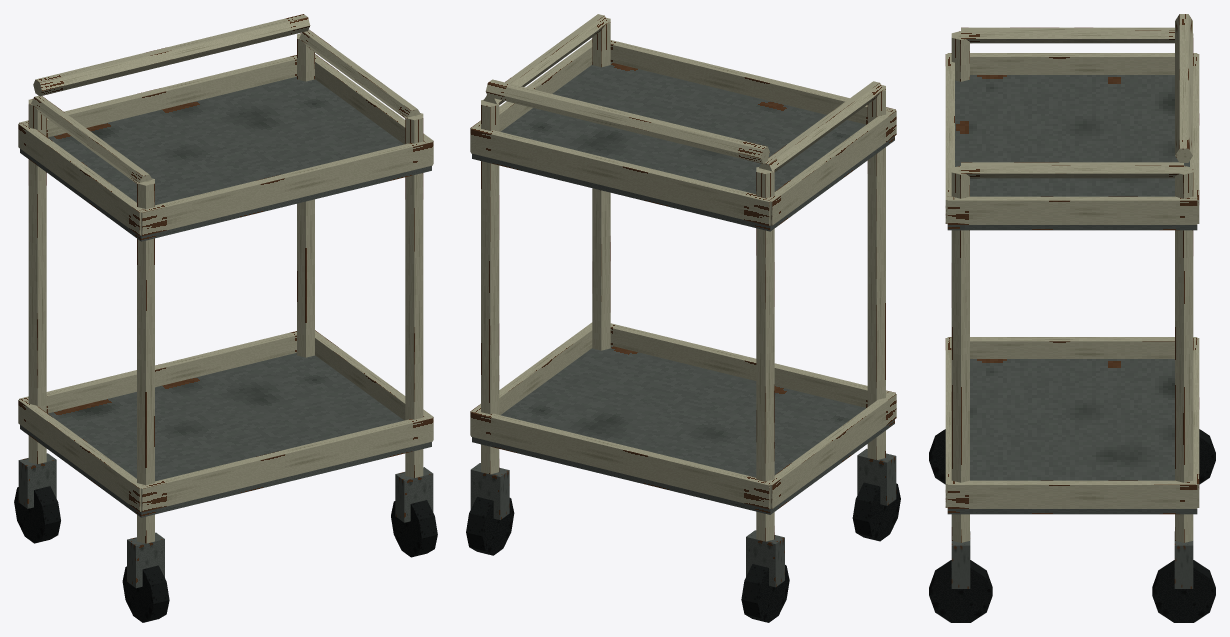
Rendered from surgical_trolley.glb.
3 renders of one model, left to right at view 1: azimuth 30°, elevation 25°; view 2: azimuth 150°, elevation 25°; view 3: azimuth 270°, elevation 25°, orthographic. The views are drawn at different scales.
Parts seen in each view (by area): view 1: 02_Surgical_Trolley_Treatment_|_Shared_Pixel_Atlas.001; view 2: 02_Surgical_Trolley_Treatment_|_Shared_Pixel_Atlas.001; view 3: 02_Surgical_Trolley_Treatment_|_Shared_Pixel_Atlas.001.
Part boxes in pixels (x1,y1,x2,y2): 02_Surgical_Trolley_Treatment_|_Shared_Pixel_Atlas.001: [14, 14, 437, 622]; 02_Surgical_Trolley_Treatment_|_Shared_Pixel_Atlas.001: [466, 14, 900, 622]; 02_Surgical_Trolley_Treatment_|_Shared_Pixel_Atlas.001: [929, 14, 1215, 622].
Size of the model in its own units: 0.665 by 0.9768 by 0.54.
Materials: 1 (1 with a texture image).
